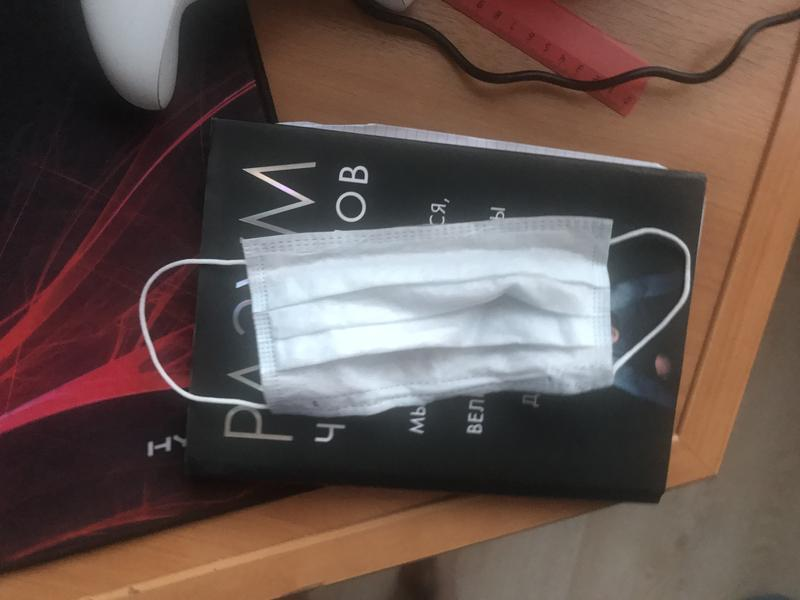medical_mask: (137, 219, 692, 415)
